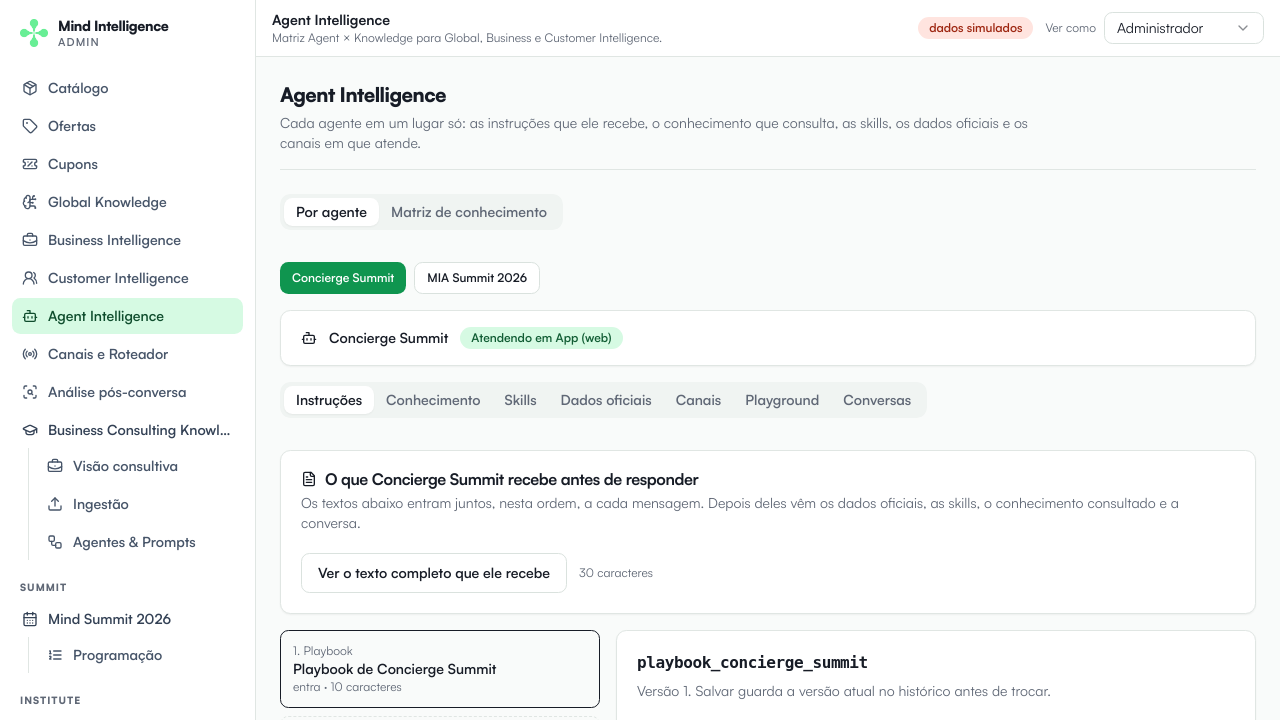
Test: o que o agente recebe (aba Instruções) › o texto completo que o agente recebe abre num clique
The width and height of the screenshot is (1280, 720).
Expected: the element named "Agentes" is shown, x1=280 y1=262 x2=540 y2=294
What coordinates should you click on to do the following:
click the button "Ver o texto completo que ele recebe"
I would click on:
 (434, 573)
Its box is x1=301 y1=553 x2=567 y2=593.
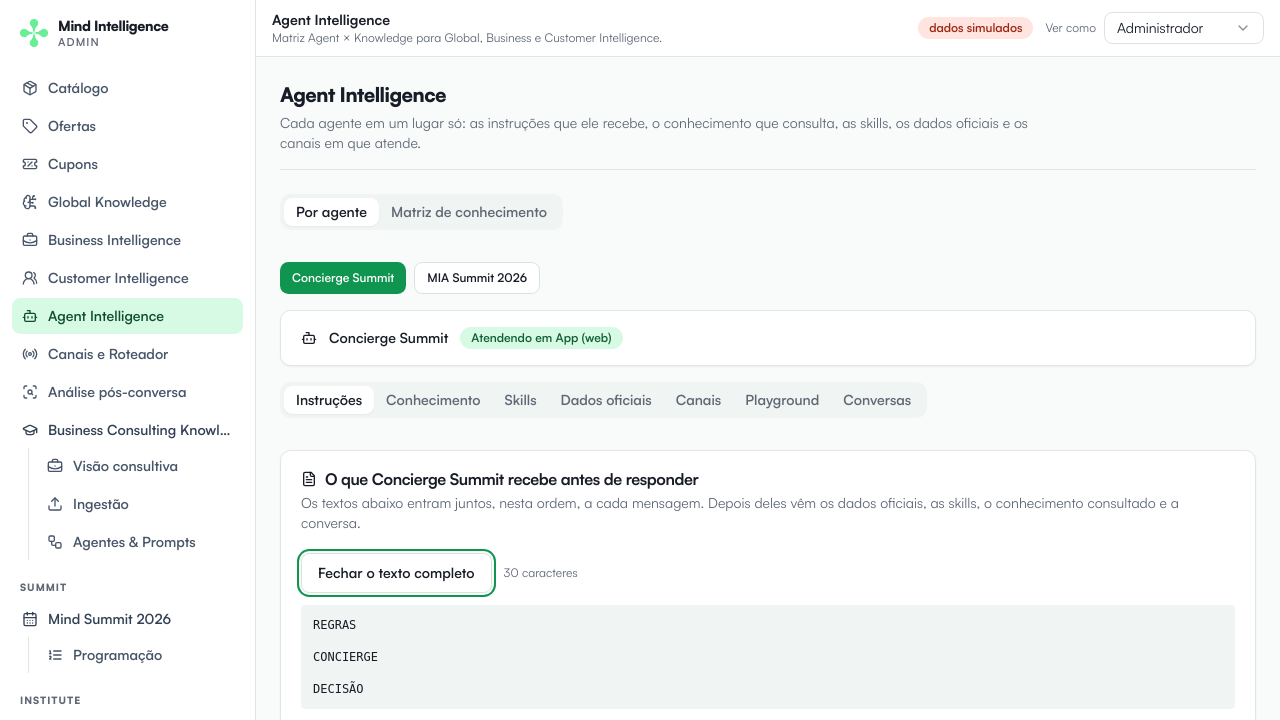
Expected: the text named "Texto completo das instruções" shows "CONCIERGE", x1=313 y1=618 x2=378 y2=696
